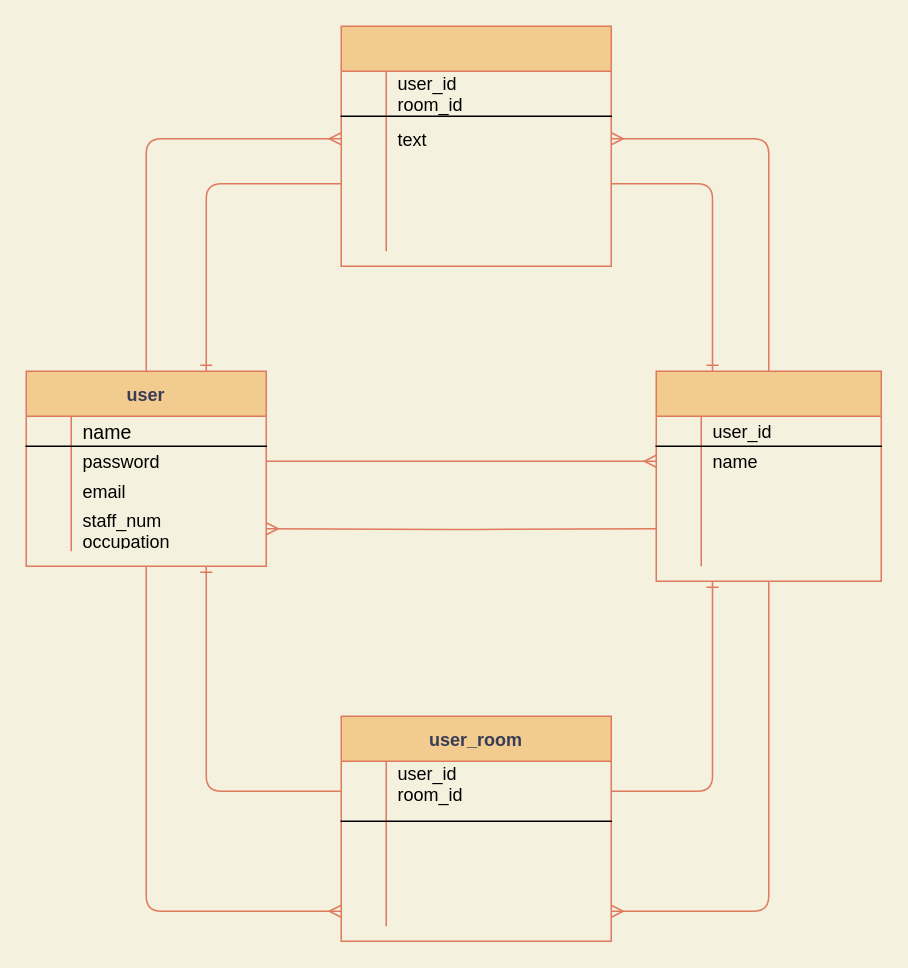
Image size: 908x968. Some labels were removed from this diagram. The shapes that lost their labels are listed below. From the top down, each one's box as (x1, y1, x2, y2) in pixels, then its label:
(340, 25, 611, 266): message
(655, 370, 881, 581): room
